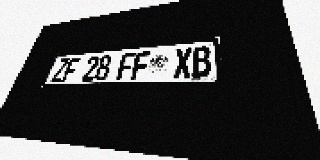2: (81, 56, 101, 81)
8: (94, 54, 113, 81)
B: (192, 46, 211, 78)
F: (116, 52, 136, 80), (131, 51, 150, 80), (61, 57, 81, 82)
X: (173, 47, 192, 78)
Z: (50, 58, 70, 82)
